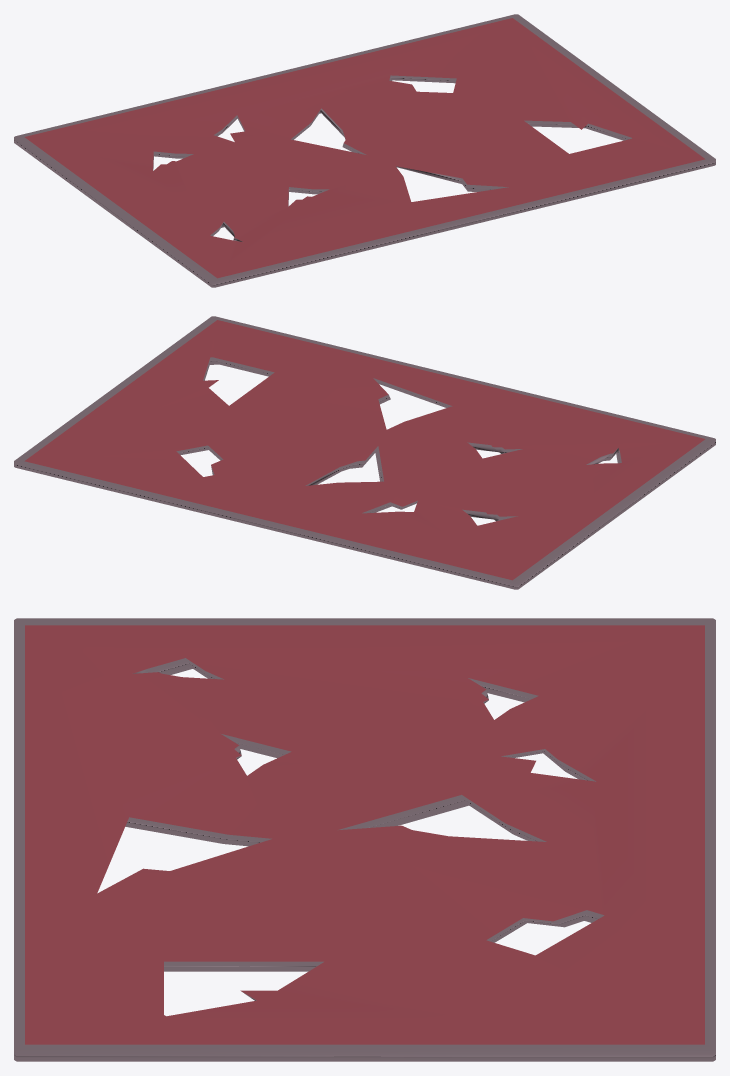
The model's file is dywan4.fbx.
3 renders of one model, top to bottom at view 1: azimuth 30°, elevation 25°; view 2: azimuth 150°, elevation 25°; view 3: azimuth 270°, elevation 25°, orthographic. The views are drawn at different scales.
Parts seen in each view (by area): view 1: Cube; view 2: Cube; view 3: Cube.
Boxes of the visible parts, x1,y1,x2,y2 form: Cube: (14,14,715,287); Cube: (14,316,715,589); Cube: (14,618,715,1061).
Size of the model in its own units: 316 by 3.42 by 217.
